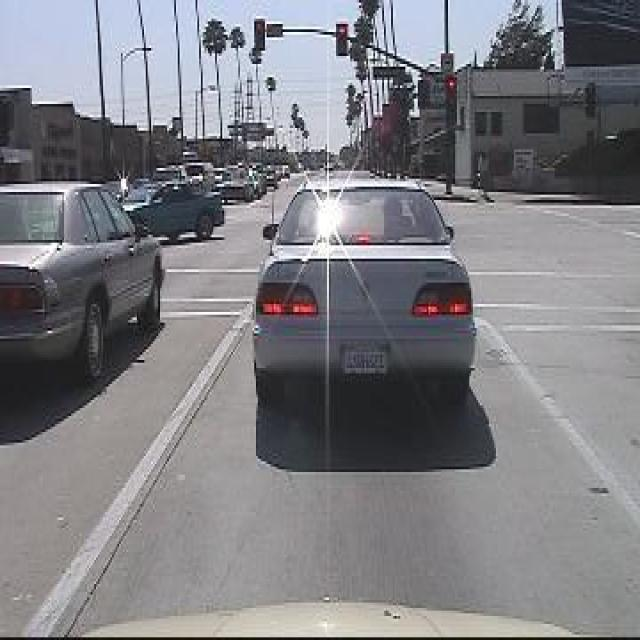car_back: (248, 177, 480, 410), (0, 176, 170, 394), (342, 343, 389, 383)
